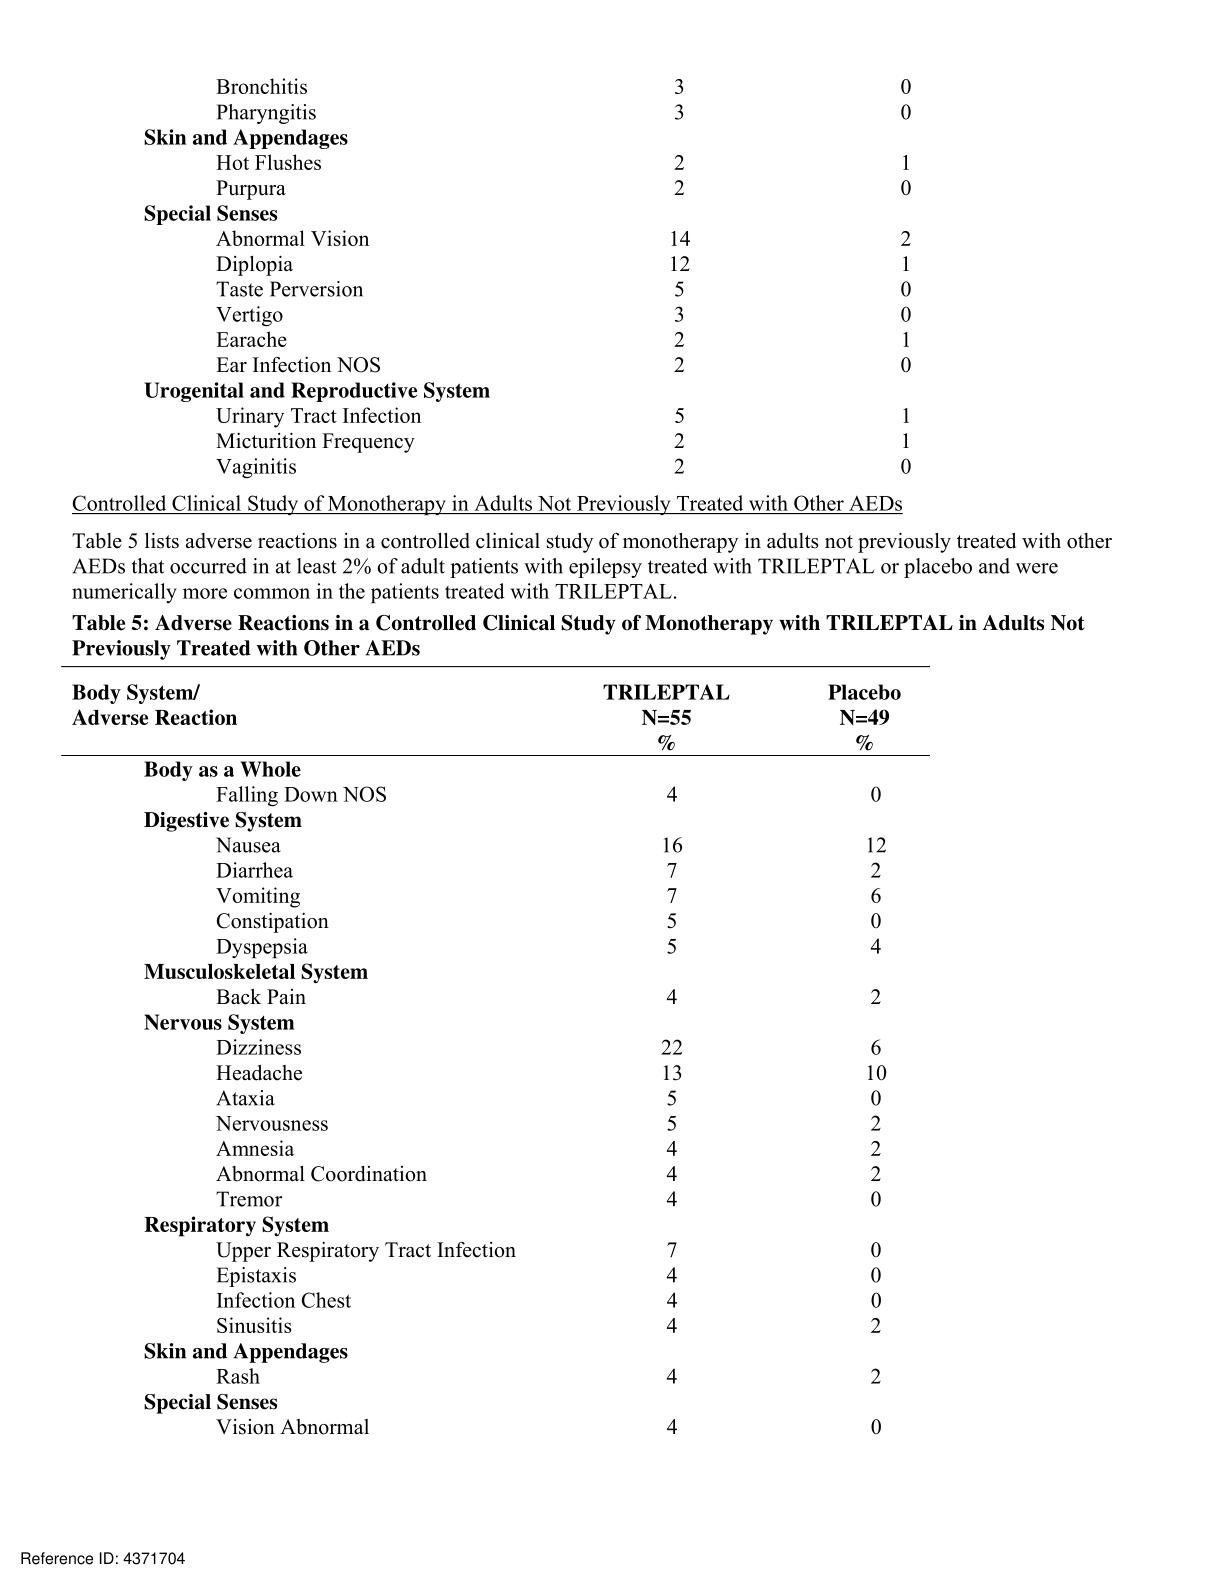nolines: (136, 72, 921, 481)
partial_lined: (60, 665, 930, 1448)
